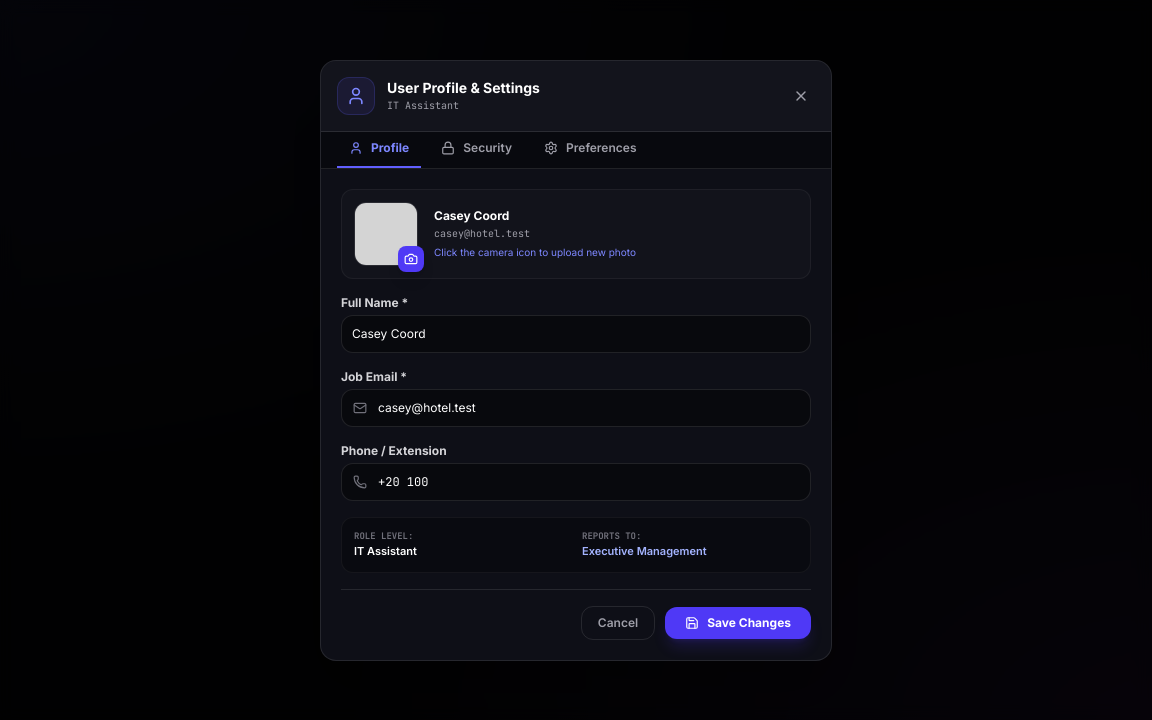
Test: UserProfileModal › mutes and unmutes the notification chime, persisting the choice locally
Click the button "Preferences": {"x": 590, "y": 154} [532,140,648,168]
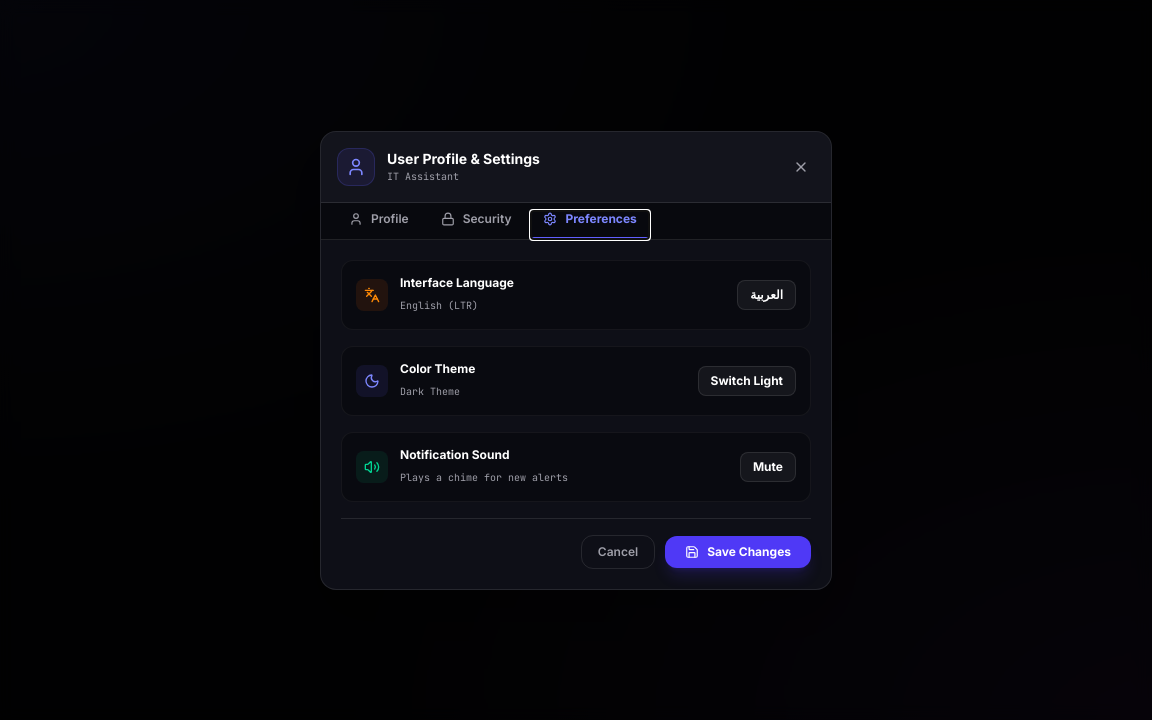
Check: the text "Plays a chime for new alerts" is shown, box [400,470,568,484]
Click the button "Mute": {"x": 768, "y": 466} [740,452,796,482]
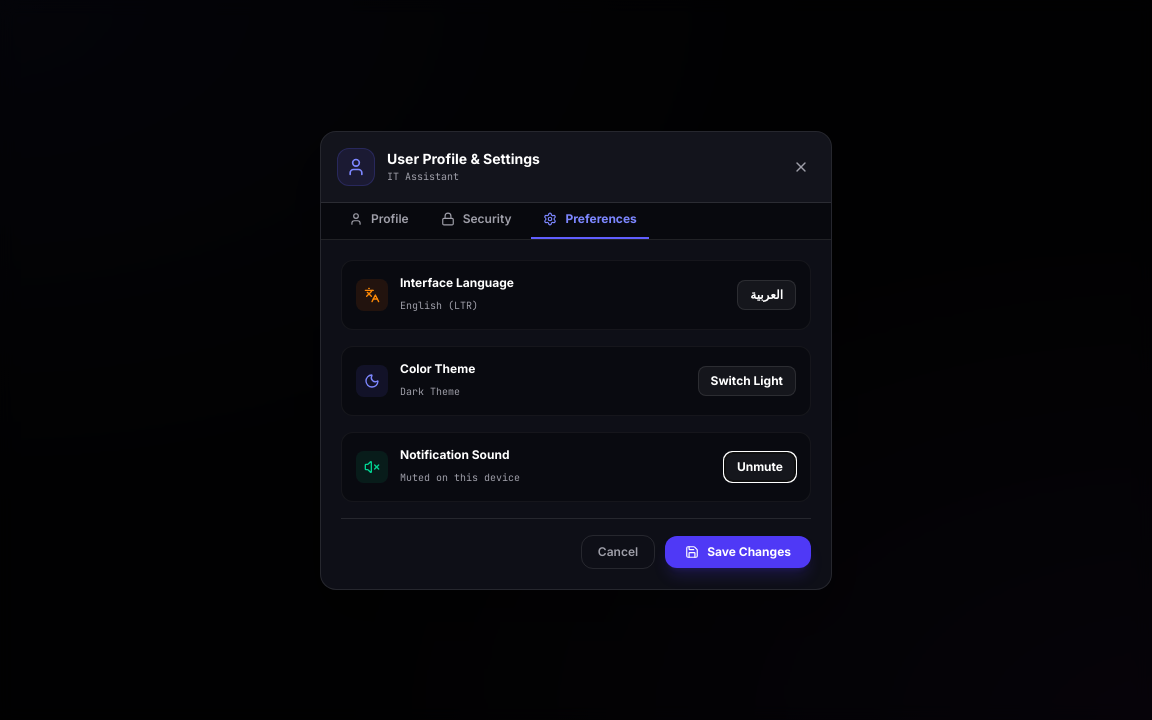
Check: the text "Muted on this device" is shown, box [400,470,520,484]
Click the button "Unmute": {"x": 760, "y": 466} [724,452,796,482]
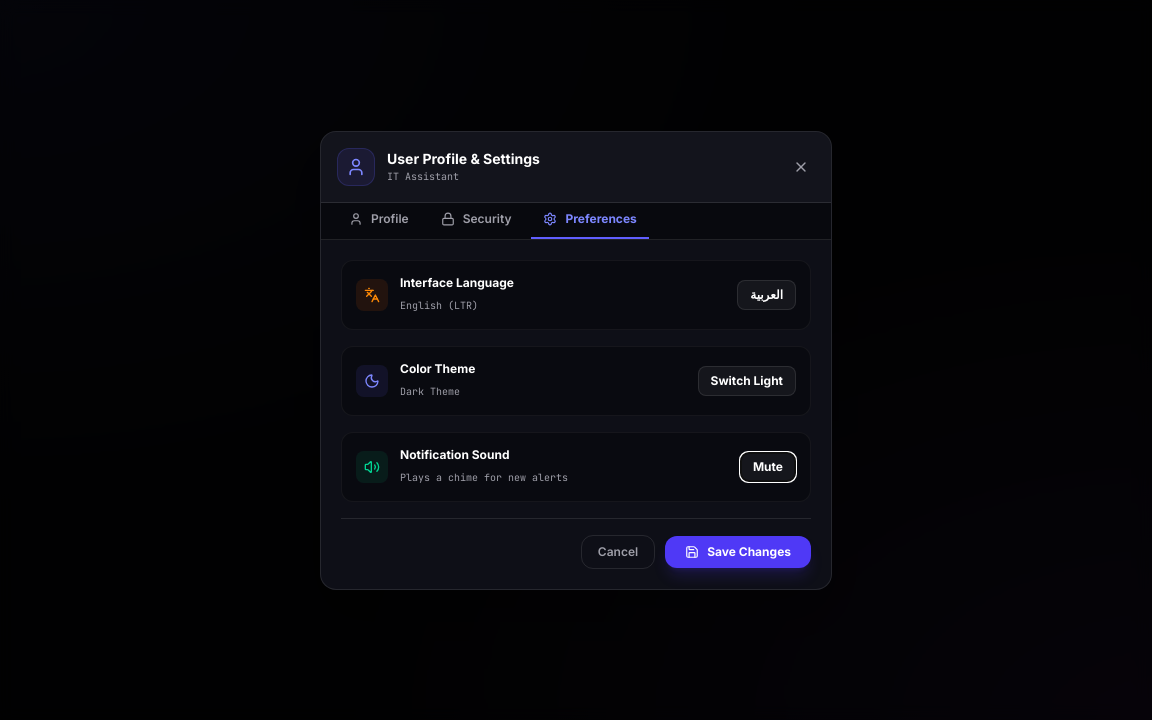
Check: the text "Plays a chime for new alerts" is shown, box [400,470,568,484]
